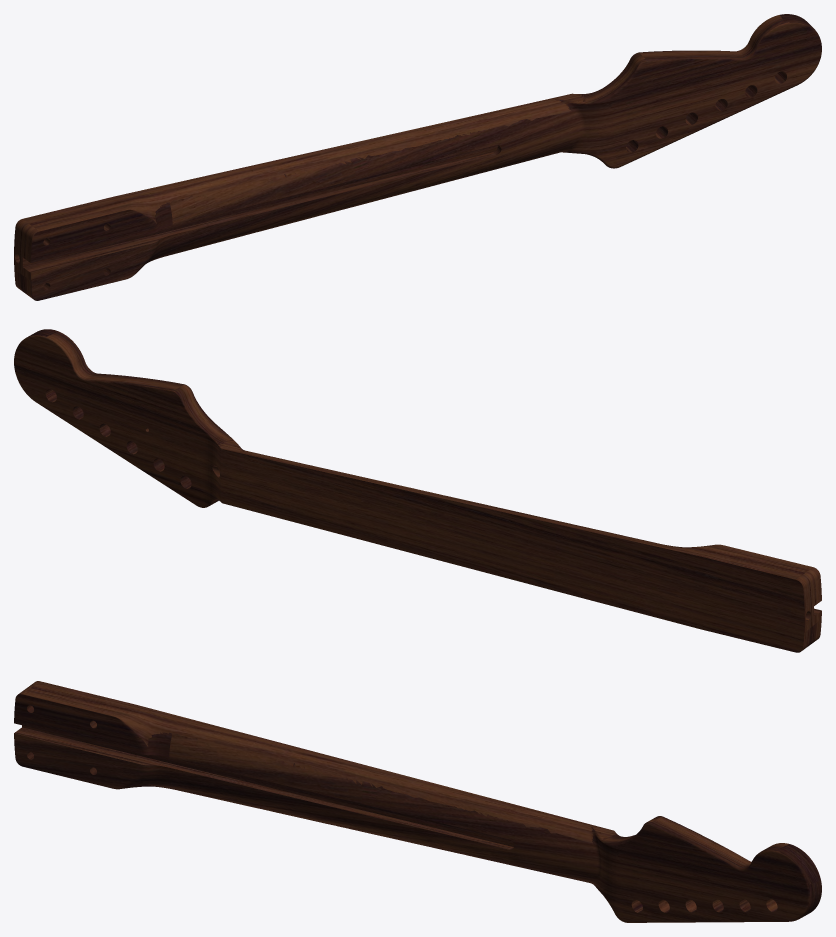
The model's file is rose_neck.dae.
3 views of the same model, one above another, from view 1: azimuth 30°, elevation 25°; view 2: azimuth 150°, elevation 25°; view 3: azimuth 330°, elevation 25° (orthographic). The views are drawn at different scales.
Parts seen in each view (by area): view 1: Neck; view 2: Neck; view 3: Neck.
Boxes of the visible parts, bbox=[...] form: Neck: bbox=[14, 14, 821, 300]; Neck: bbox=[14, 329, 821, 652]; Neck: bbox=[14, 681, 821, 922].
Bounding box in the file's own units: 669 × 46.49 × 95.53.
Materials: 1 (1 with a texture image).
